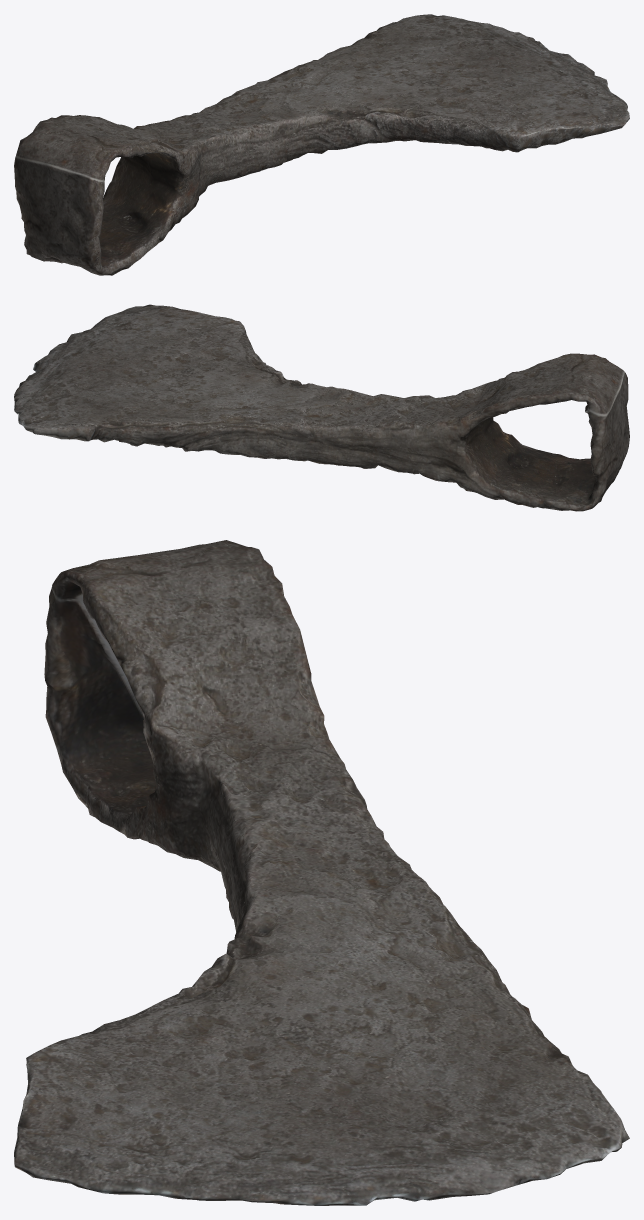
The model's file is Sokyra.glb.
3 views of the same model, one above another, from view 1: azimuth 30°, elevation 25°; view 2: azimuth 150°, elevation 25°; view 3: azimuth 270°, elevation 25° (orthographic). The views are drawn at different scales.
Parts seen in each view (by area): view 1: Sokyra_v3_textured_scaled; view 2: Sokyra_v3_textured_scaled; view 3: Sokyra_v3_textured_scaled.
Boxes of the visible parts, box(x1,y1,x2,y2) form: Sokyra_v3_textured_scaled: box(14, 14, 629, 275); Sokyra_v3_textured_scaled: box(14, 304, 629, 511); Sokyra_v3_textured_scaled: box(14, 540, 629, 1205).
Bounding box in the file's own units: 0.2087 × 0.0444 × 0.1033.
Materials: 1 (1 with a texture image).
